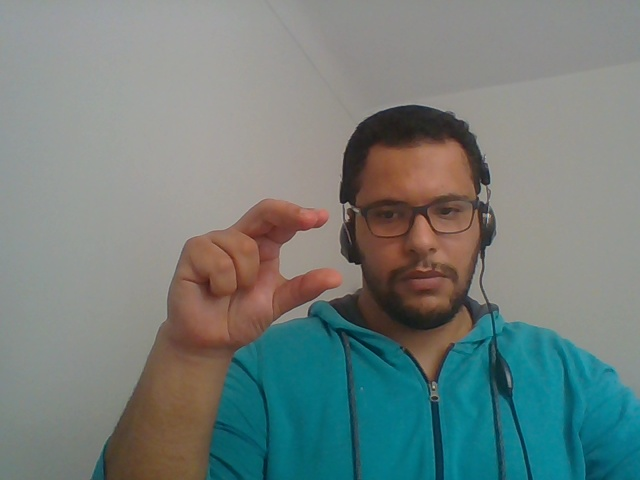no: (153, 171, 353, 367)
